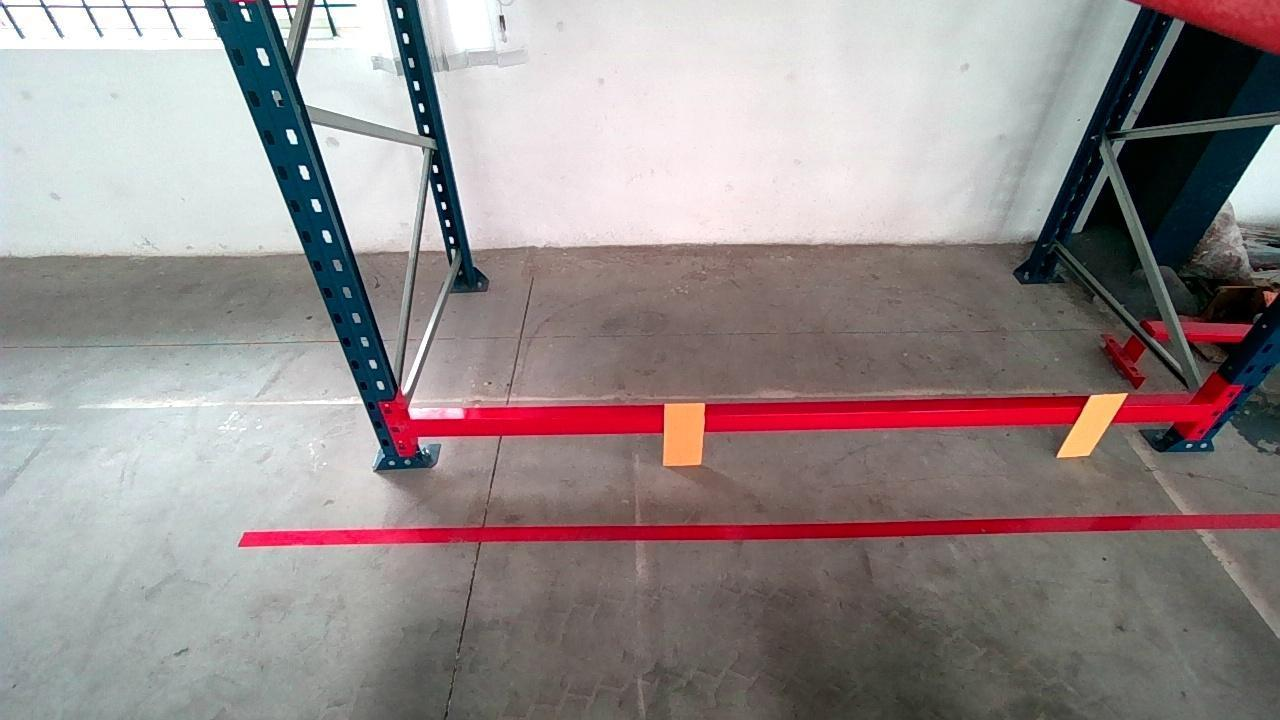h_rack: (411, 391, 1200, 441)
orange_strip: (1058, 392, 1129, 456), (663, 401, 705, 465)
red_line: (242, 506, 1271, 544)
